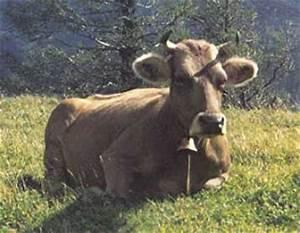cow: (17, 30, 258, 206)
